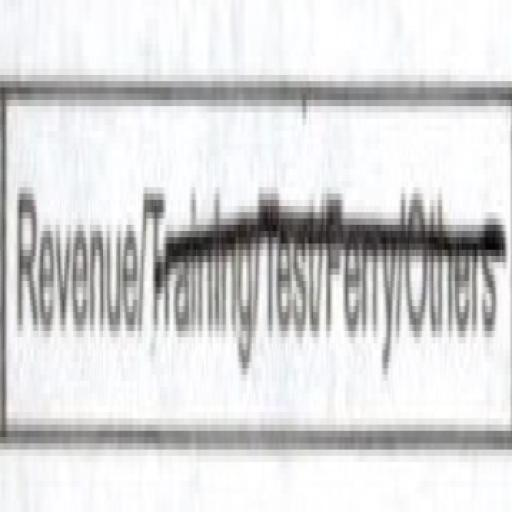check: (2, 6, 142, 512)
